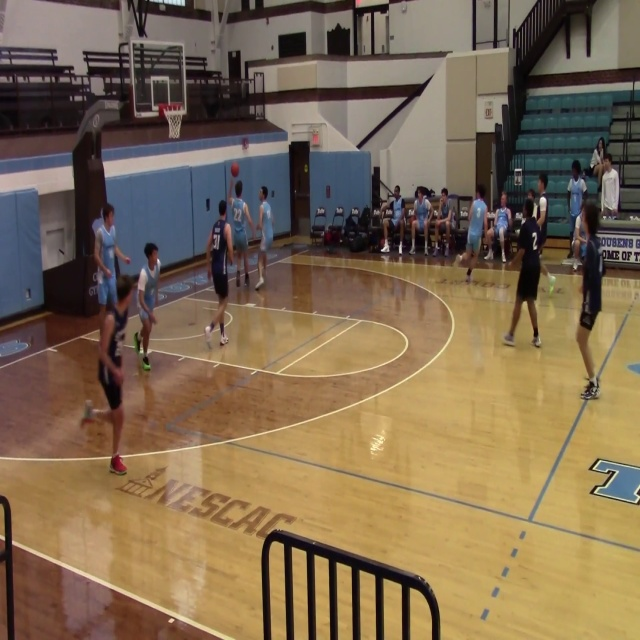Basketball: (230, 162, 239, 177), (242, 137, 249, 150)
